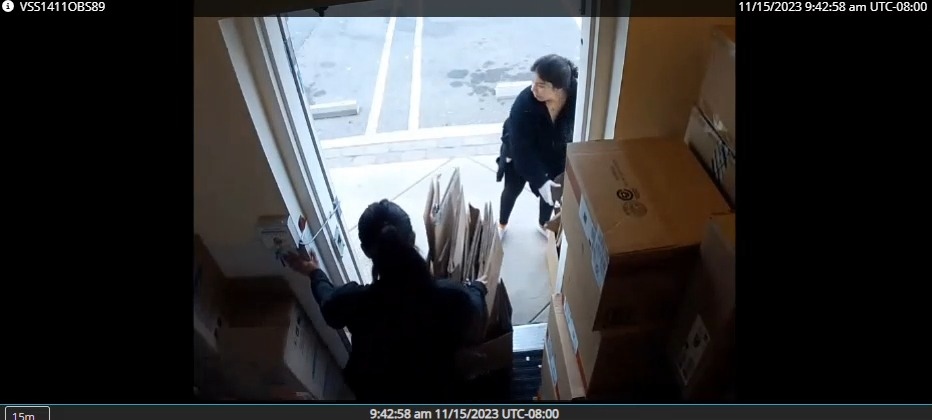gloves: (528, 177, 563, 209)
